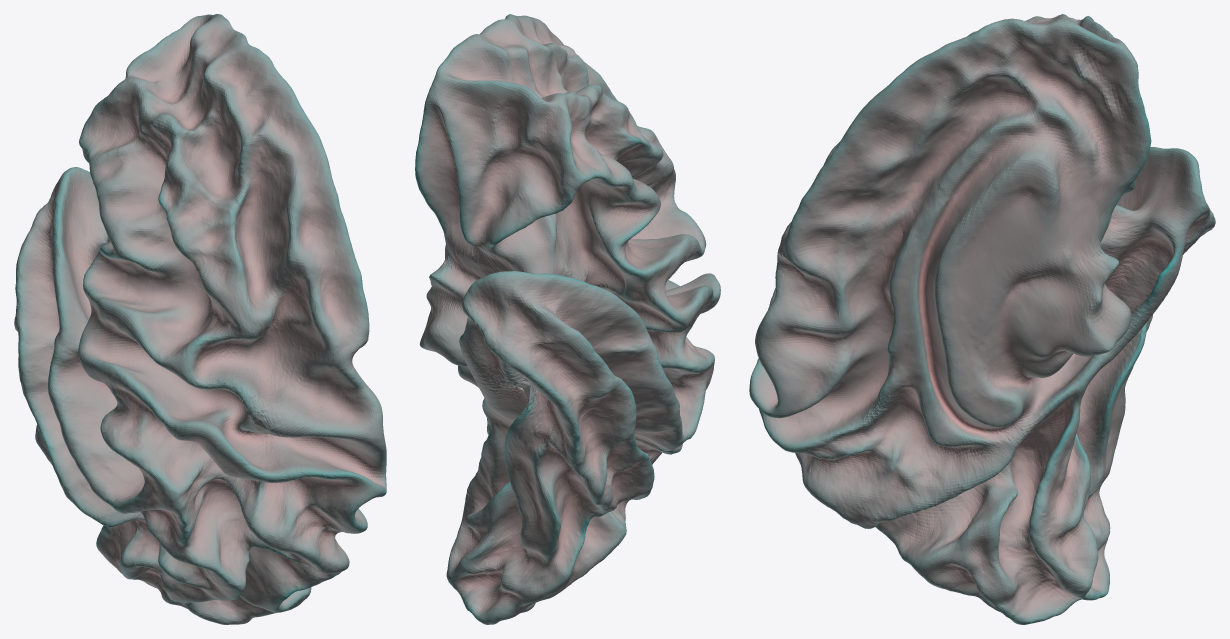
File: cortex_lh_white.glb
The picture shows the model from 3 angles, left to right: view 1: azimuth 30°, elevation 25°; view 2: azimuth 150°, elevation 25°; view 3: azimuth 270°, elevation 25°; orthographic projection. The views are drawn at different scales.
Parts seen in each view (by area): view 1: world; view 2: world; view 3: world.
Part boxes in pixels (bbox=[...]): world: bbox=[14, 14, 386, 624]; world: bbox=[415, 14, 720, 624]; world: bbox=[749, 14, 1215, 624].
Size of the model in its own units: 67.42 by 168 by 117.
